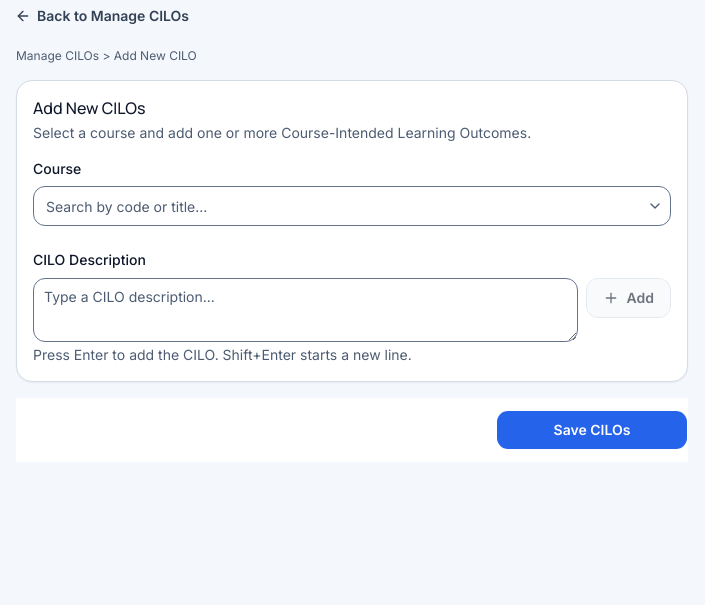
Test: AddCiloForm › rejects saving without a selected course
Type "Design instruction" into the text box labelled "CILO Description" at (305, 310), box [33,278,578,342]
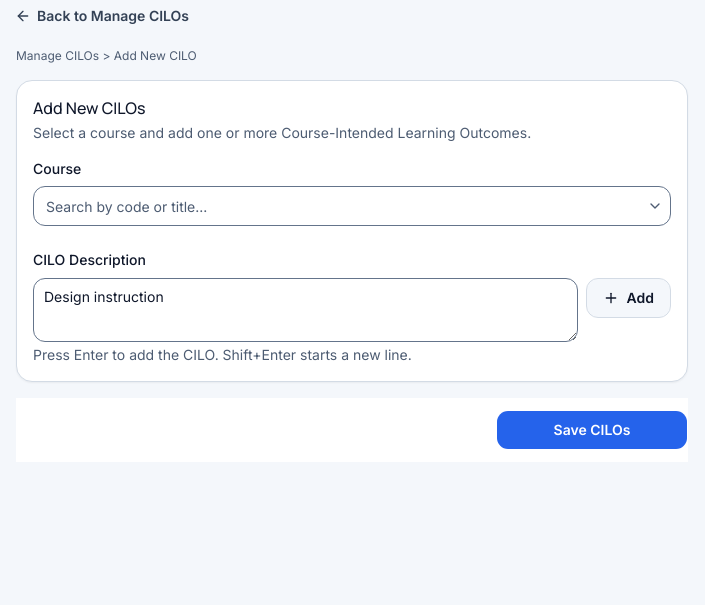
Click the button "Add" at (628, 298), box [586,278,671,318]
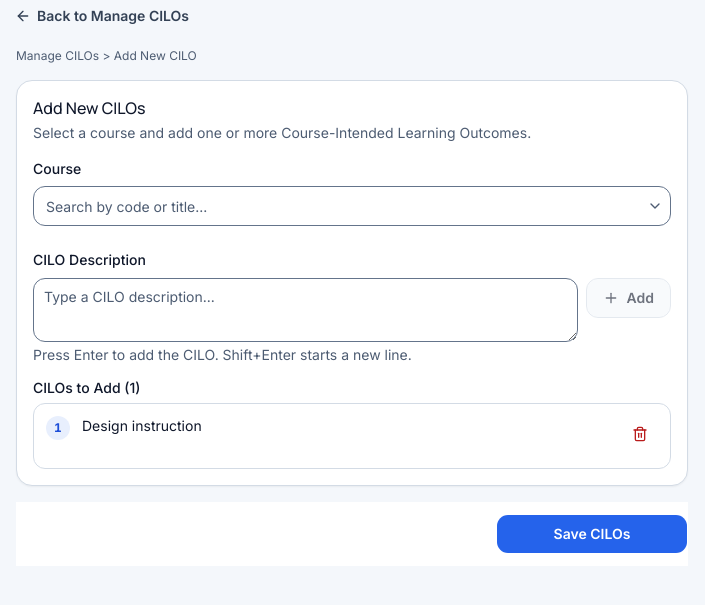
Click the button "Save CILOs" at (592, 534), box [496,514,688,554]
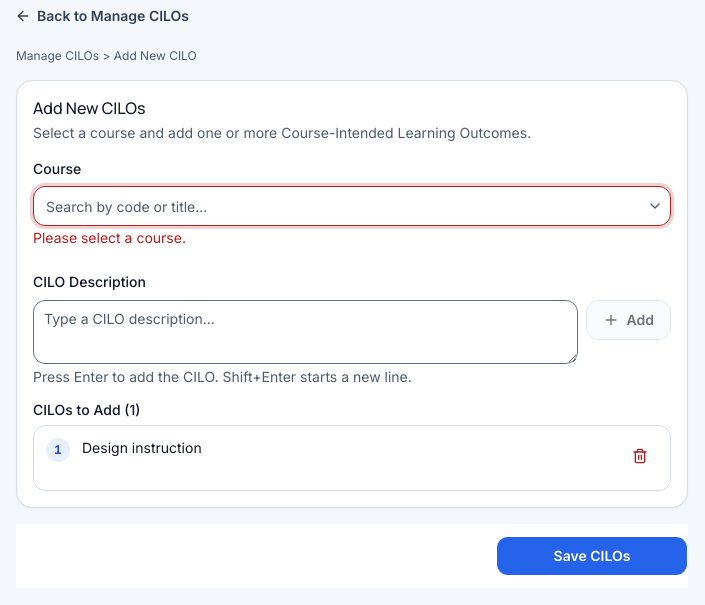
Result: the message reads "Please select a course." at [33,229,186,246]
